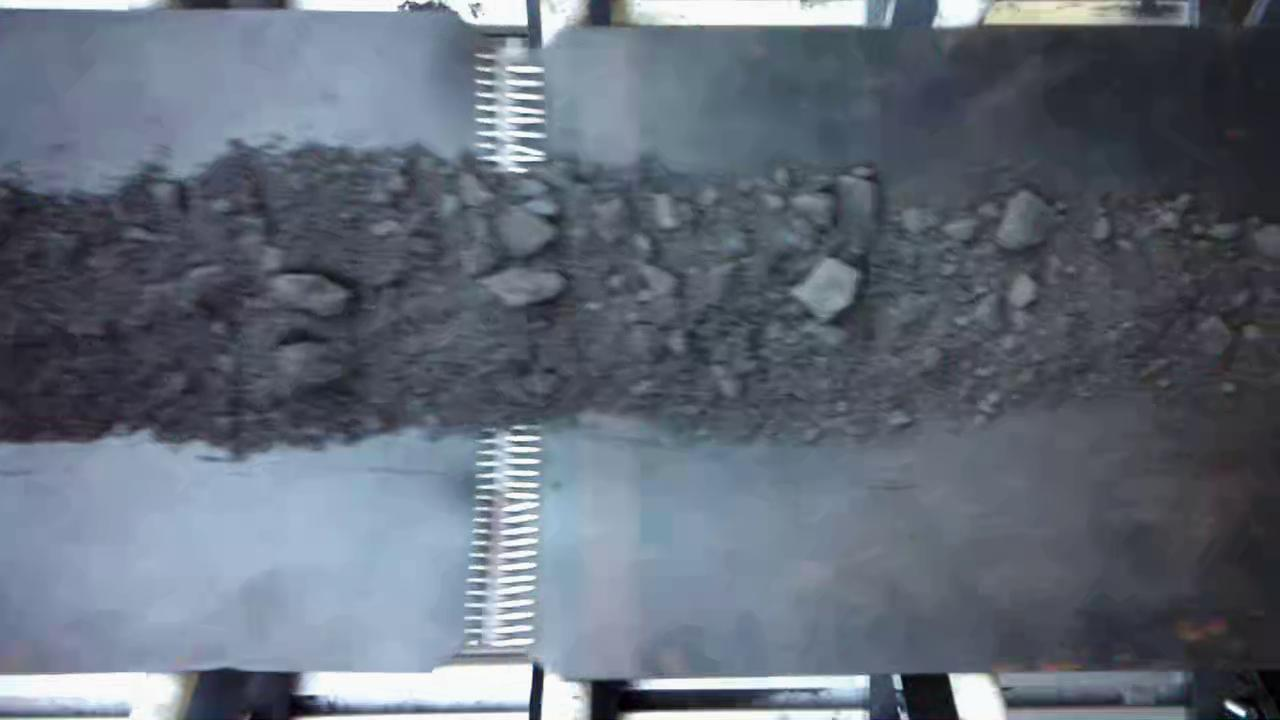conveyor: (5, 38, 1280, 654)
